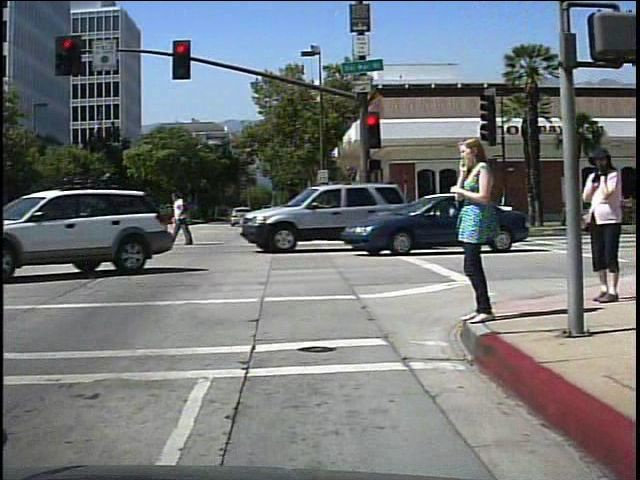person: (449, 128, 505, 326), (576, 140, 623, 310)
